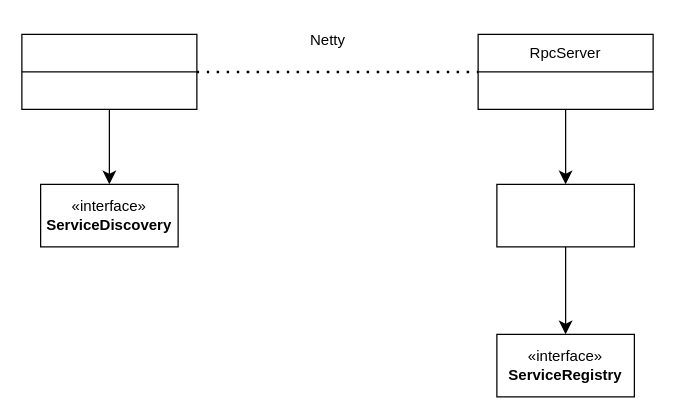
This 675x419 diagram has some shape labels left out. The centre of each missing label's shape, as x and y in pixels:
RpcClient: the point at 109,71
«interface» ServiceProvider: the point at 565,215
